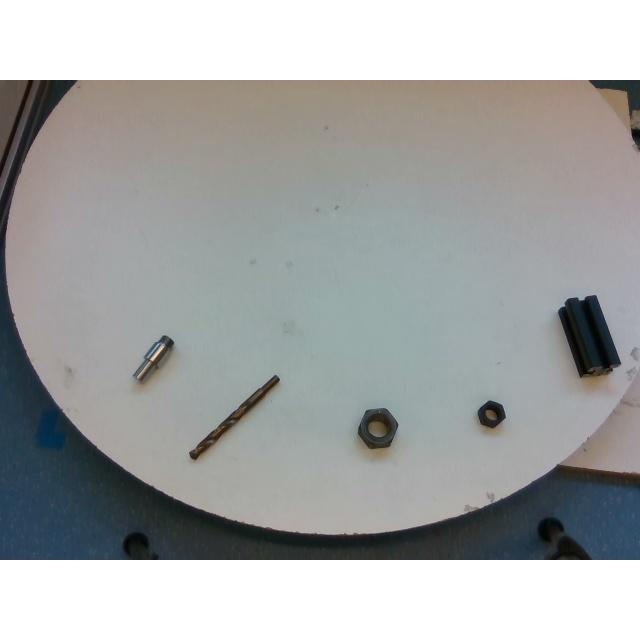Axis2: (132, 335, 172, 381)
Drill: (189, 372, 281, 460)
M20: (477, 400, 505, 426)
M30: (357, 408, 397, 448)
S40_40_B: (558, 295, 618, 375)
